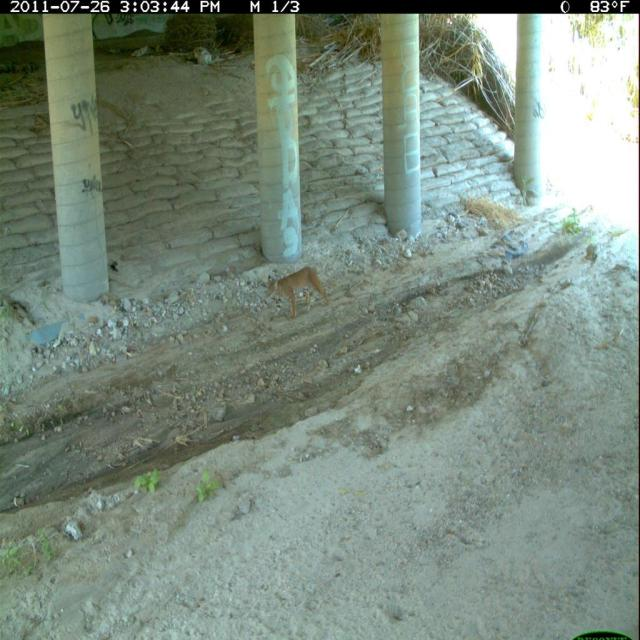bobcat: (263, 263, 334, 323)
